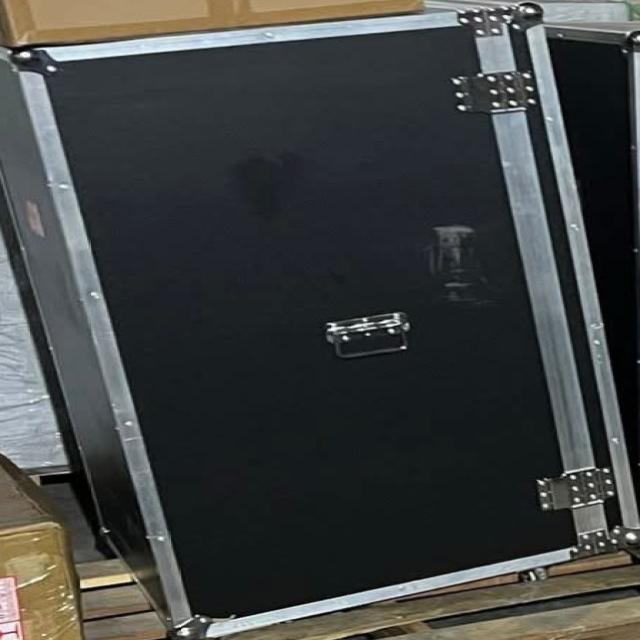wooden_box: (7, 15, 640, 636)
